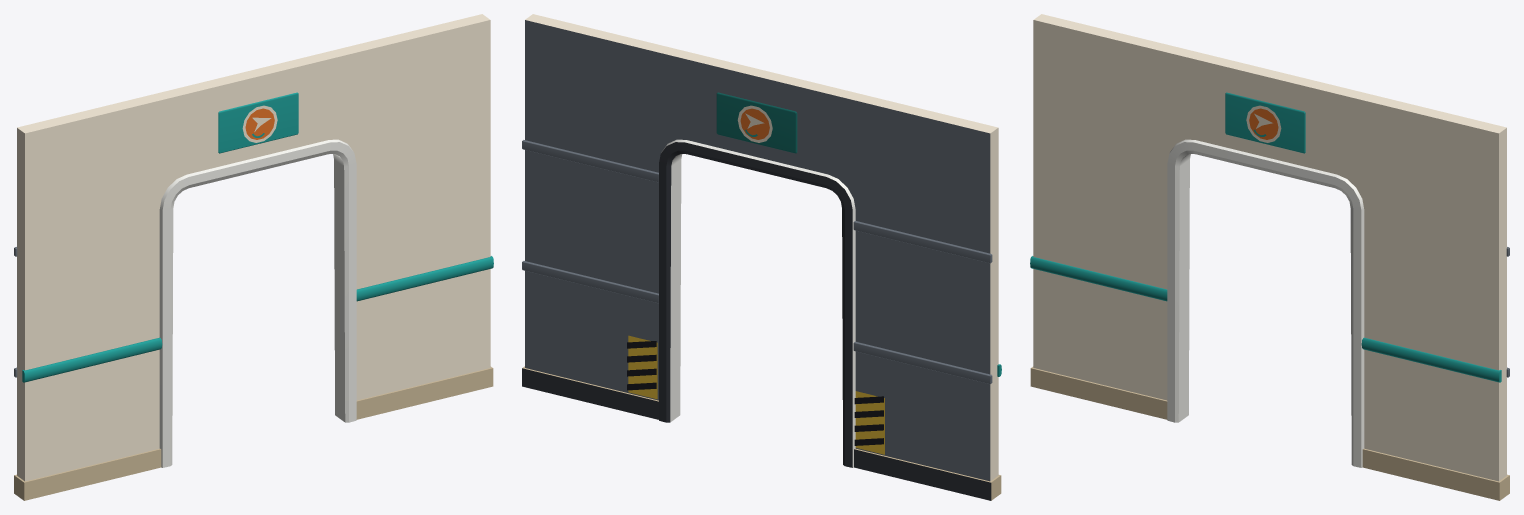
Rendered from MamparaBodega.fbx.
3 renders of one model, left to right at view 1: azimuth 30°, elevation 25°; view 2: azimuth 150°, elevation 25°; view 3: azimuth 330°, elevation 25°, orthographic.
Visible parts, largest first — view 1: MamparaBodega; view 2: MamparaBodega; view 3: MamparaBodega.
Part boxes in pixels (x1,y1,x2,y2): MamparaBodega: [14, 14, 493, 500]; MamparaBodega: [522, 14, 1001, 500]; MamparaBodega: [1030, 14, 1509, 500].
Bounding box in the file's own units: 13.4 × 10 × 0.7408.
Materials: 1 (1 with a texture image).
